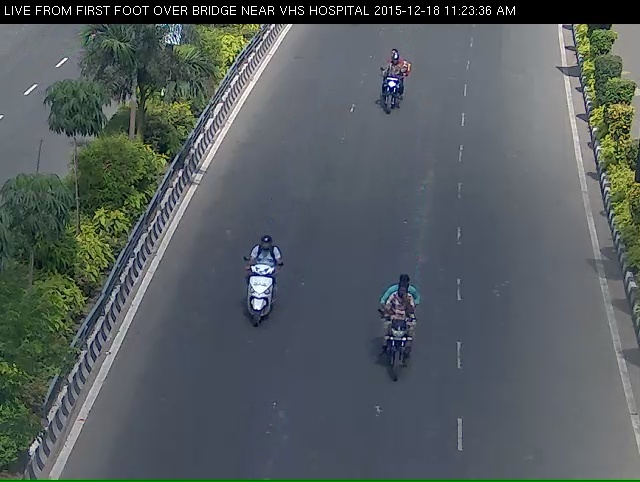Person: (368, 293, 425, 411), (227, 256, 275, 358), (367, 54, 409, 132)
